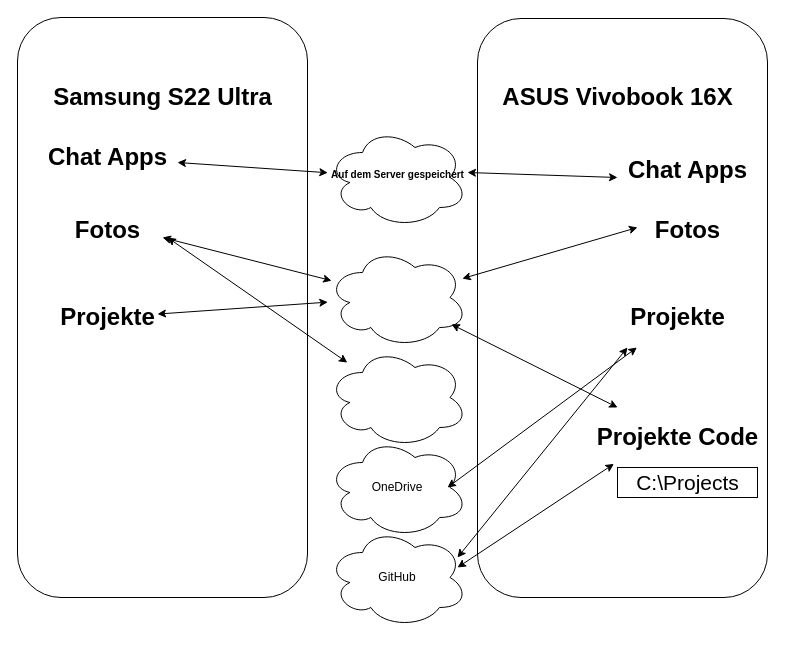
Image size: 795x645. Some labels were removed from this diagram. The centre of each missing label's shape, as x and y in pixels:
Google Drive: [397,397]
Lokal Gespeichert: [397,297]
